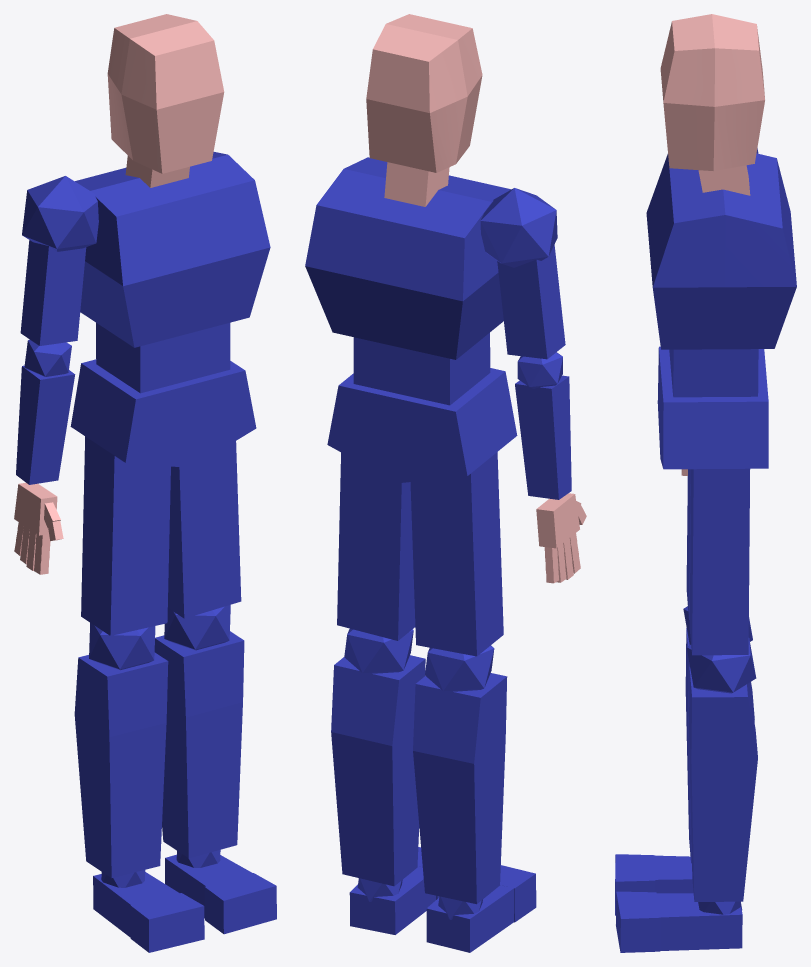
Rendered from comisario_cuerpo.obj.
3 views of the same model, side by side, from view 1: azimuth 30°, elevation 25°; view 2: azimuth 150°, elevation 25°; view 3: azimuth 270°, elevation 25° (orthographic). The views are drawn at different scales.
Size of the model in its own units: 0.9971 by 3.83 by 0.7093.
